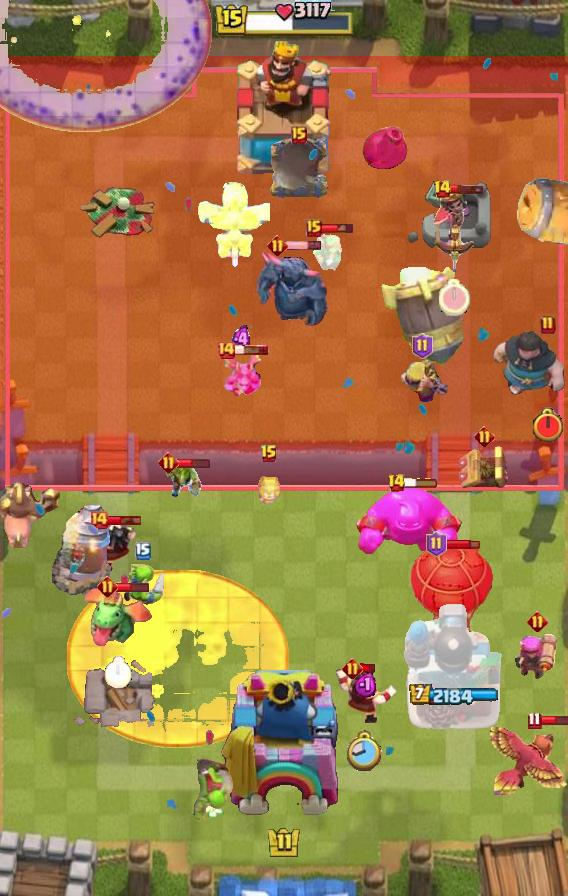arrows: (397, 353, 448, 405)
baby-dragon: (359, 121, 411, 175)
bar-level: (185, 759, 235, 825)
bomber-evolution: (430, 186, 478, 278)
cannon-cart: (410, 543, 494, 645)
clock: (213, 0, 355, 40)
clone: (353, 485, 465, 557)
dirt: (516, 178, 567, 250)
electro-spirit: (231, 325, 252, 354), (354, 671, 376, 697)
electro-wizard: (79, 585, 157, 647)
elixir: (347, 731, 383, 774), (531, 407, 565, 444), (439, 279, 469, 316), (104, 656, 131, 688)
emote: (449, 183, 485, 195), (233, 344, 269, 356), (403, 477, 439, 489), (107, 514, 143, 526), (320, 222, 355, 234), (176, 457, 211, 469), (444, 538, 479, 550), (114, 581, 149, 593), (285, 241, 322, 252), (540, 714, 568, 726), (359, 663, 376, 674)
freeze: (0, 480, 60, 550)
giant-snowball: (313, 232, 345, 272)
goblin-brawler: (457, 442, 511, 492)
golden-knight: (486, 723, 568, 795)
golemite: (250, 250, 332, 330)
ice-spirit-evolution: (255, 468, 283, 504)
king-tower: (219, 670, 349, 826), (228, 41, 340, 181)
lumberjack: (332, 666, 398, 724), (87, 520, 139, 574)
magic-archer: (52, 504, 112, 596)
mini-pekka: (194, 181, 270, 271)
musketeer: (267, 135, 331, 201)
phoenix-egg: (67, 570, 291, 748)
rocket: (0, 0, 212, 132)
royal-delivery: (221, 348, 261, 398)
royal-hog: (474, 329, 568, 399)
selected: (408, 685, 498, 708)
text: (412, 333, 433, 359), (426, 531, 447, 557), (474, 425, 495, 447), (158, 451, 179, 473), (98, 575, 119, 597), (268, 236, 289, 257), (527, 611, 548, 632), (341, 658, 362, 679), (432, 179, 452, 199), (216, 340, 236, 360), (386, 473, 406, 493), (89, 510, 109, 530), (260, 444, 278, 464), (540, 315, 556, 335), (291, 126, 307, 144), (306, 219, 322, 237), (135, 542, 151, 560), (527, 710, 541, 729)
tombstone: (516, 629, 560, 679)
tower-bar: (403, 601, 503, 731)
x-bow: (382, 267, 467, 366)
zap: (119, 562, 167, 606), (163, 459, 203, 499)
